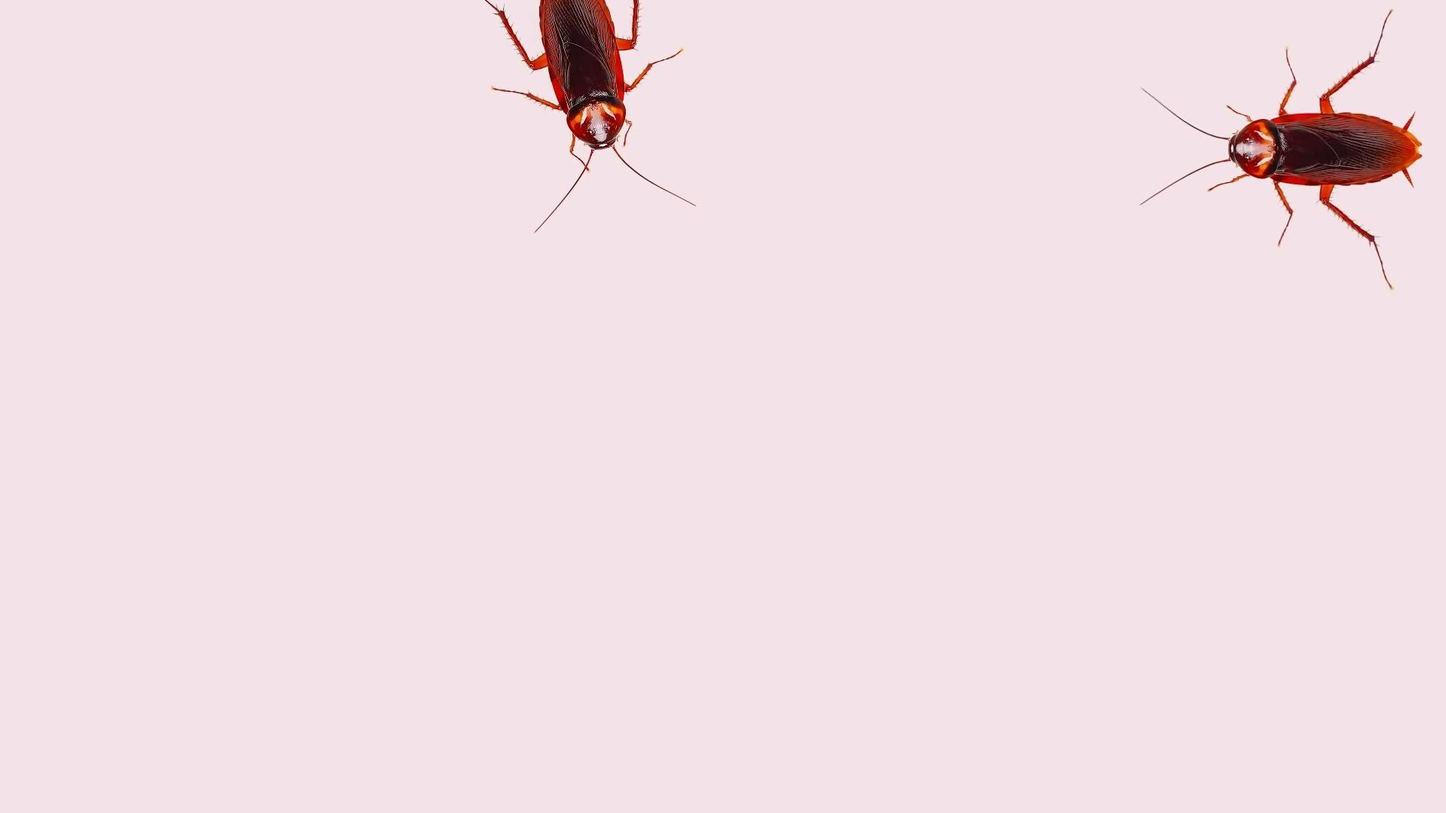cockroach: (1168, 81, 1432, 246), (471, 0, 664, 188)
